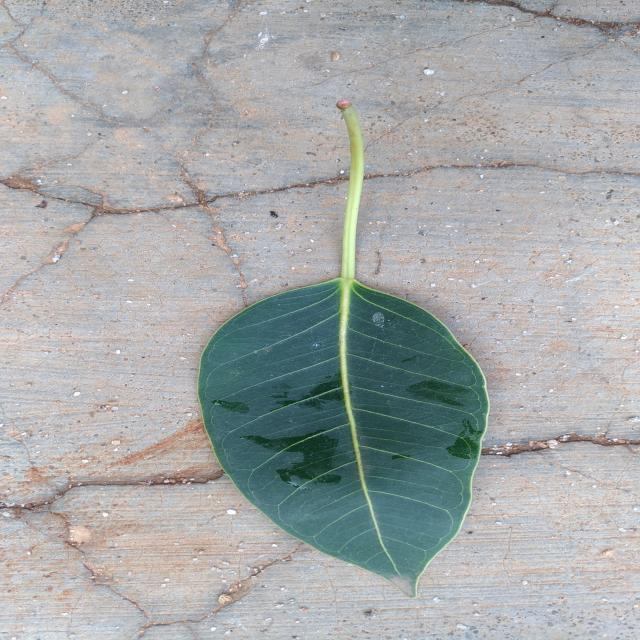defected camphor: (198, 278, 489, 595)
